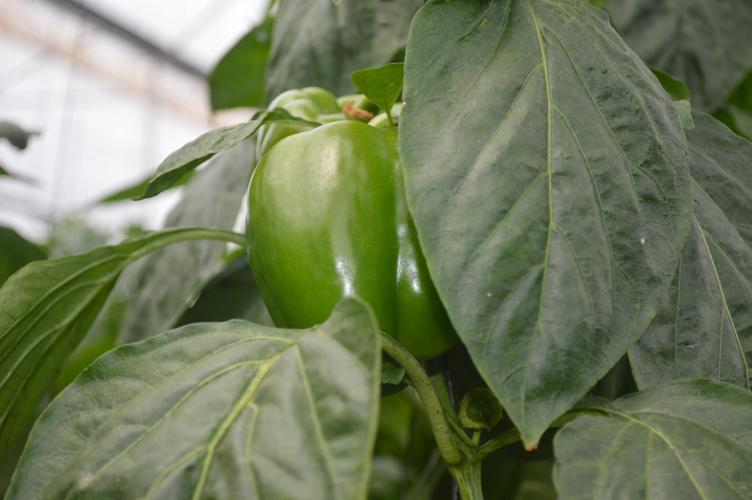BellPepper: (243, 87, 455, 360)
